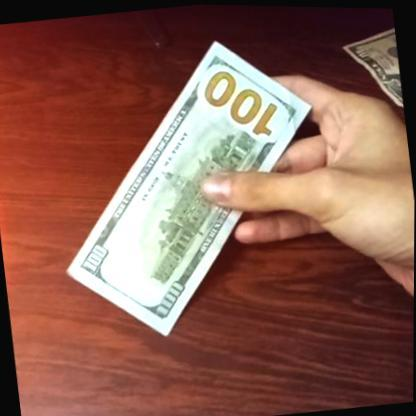dollar_back: (38, 22, 341, 352)
